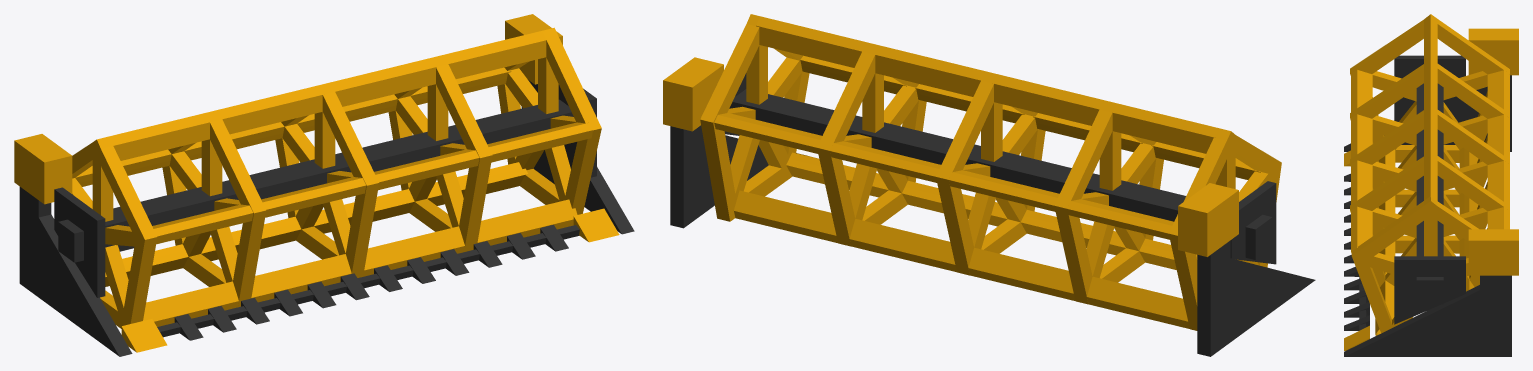
File: Cultivator_3.FBX
3 views of the same model, side by side, from view 1: azimuth 30°, elevation 25°; view 2: azimuth 150°, elevation 25°; view 3: azimuth 270°, elevation 25° (orthographic). The views are drawn at different scales.
Parts seen in each view (by area): view 1: Cultivator_3; view 2: Cultivator_3; view 3: Cultivator_3.
Part boxes in pixels (bbox=[...]): Cultivator_3: bbox=[14, 14, 634, 356]; Cultivator_3: bbox=[663, 14, 1315, 356]; Cultivator_3: bbox=[1344, 14, 1518, 356].
Bounding box in the file's own units: 3.34 × 1.07 × 1.16.
Materials: 1 (1 with a texture image).
